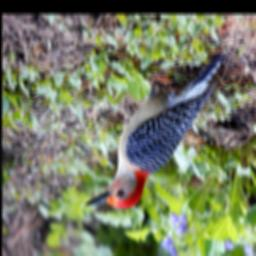Woodpecker: (85, 52, 228, 210)
